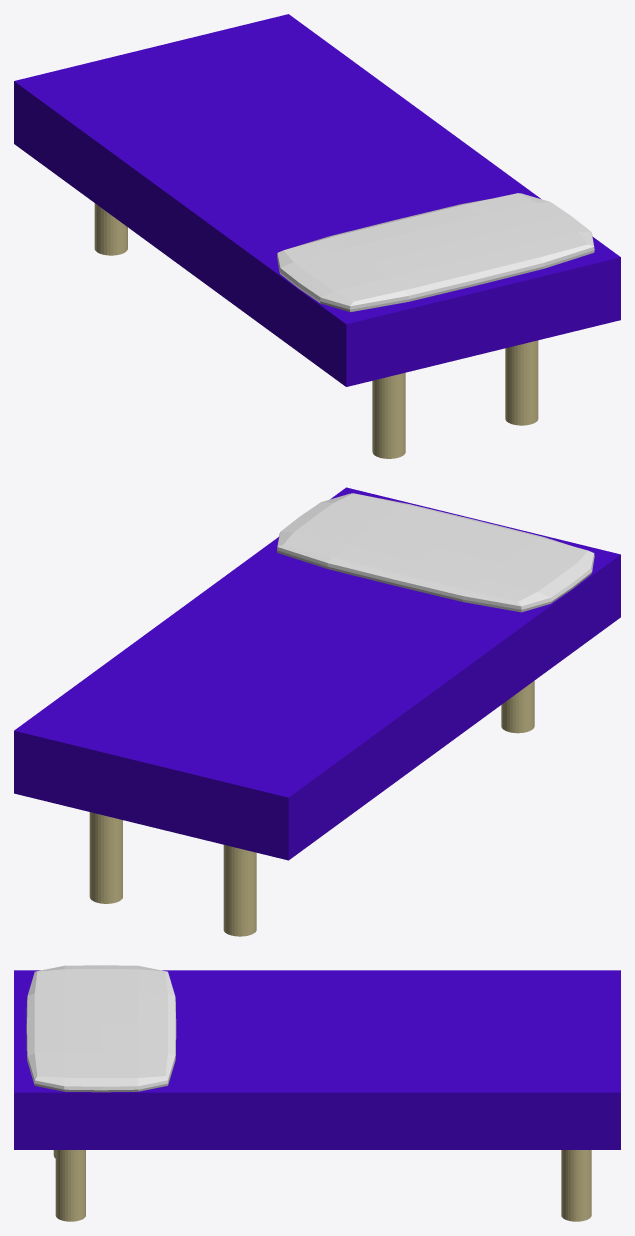
File: bed.fbx
3 renders of one model, top to bottom at view 1: azimuth 30°, elevation 25°; view 2: azimuth 150°, elevation 25°; view 3: azimuth 270°, elevation 25°, orthographic. The views are drawn at different scales.
Visible parts, largest first — view 1: Cube.007, Cube.000, Cylinder, Cylinder.003, Cylinder.001; view 2: Cube.007, Cube.000, Cylinder.001, Cylinder.002, Cylinder; view 3: Cube.007, Cube.000, Cylinder.002, Cylinder.003.
Part boxes in pixels (x1,y1,x2,y2): Cube.007: (14, 14, 620, 386); Cube.000: (277, 193, 594, 312); Cylinder: (372, 372, 405, 458); Cylinder.003: (505, 340, 538, 425); Cylinder.001: (94, 203, 127, 255); Cube.007: (14, 487, 620, 860); Cube.000: (277, 493, 594, 612); Cylinder.001: (223, 845, 256, 936); Cylinder.002: (89, 812, 122, 903); Cylinder: (501, 681, 534, 733); Cube.007: (14, 970, 620, 1149); Cube.000: (26, 965, 176, 1092); Cylinder.002: (561, 1150, 591, 1221); Cylinder.003: (55, 1150, 85, 1221).
Bounding box in the file's own units: 452 × 278 × 946.
